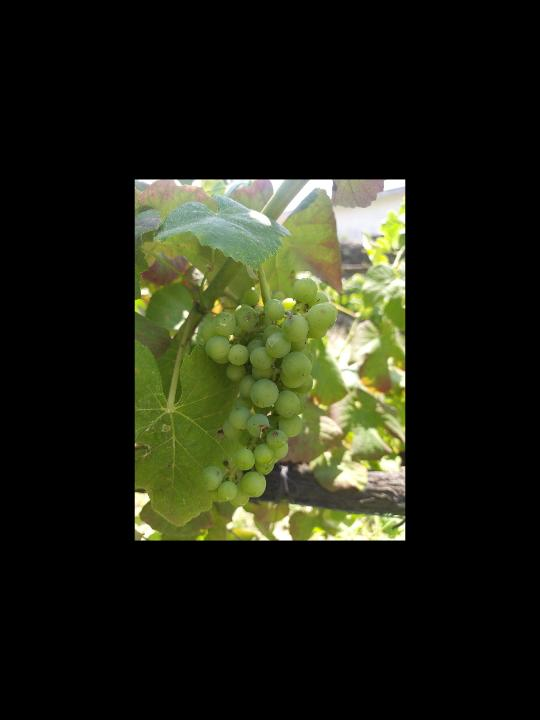grape: (196, 276, 338, 509)
